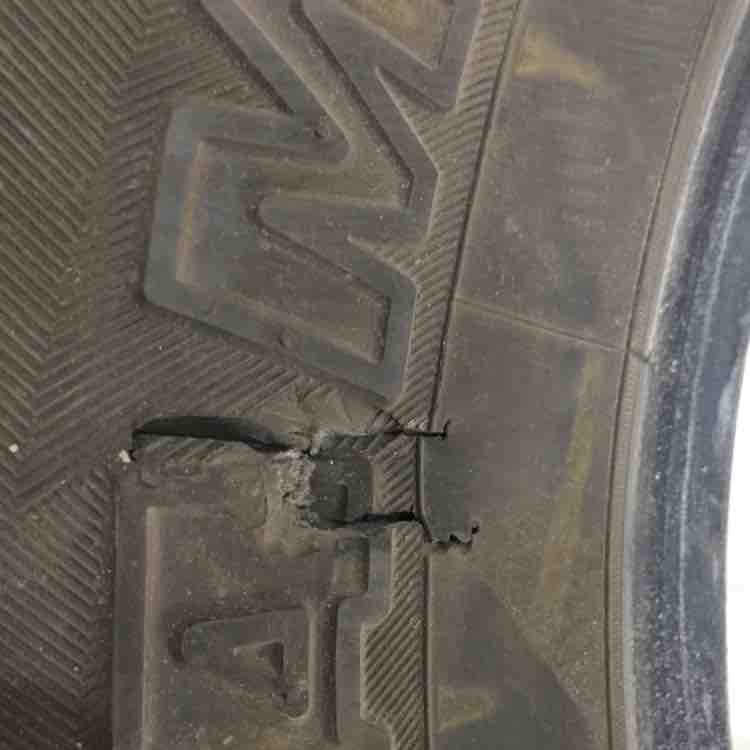cut: (123, 412, 487, 549)
